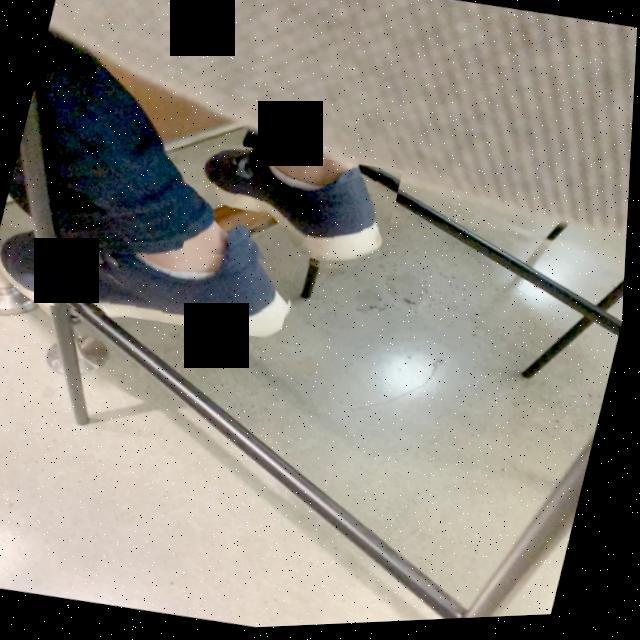shoe: (52, 237, 290, 339), (203, 151, 387, 270)
